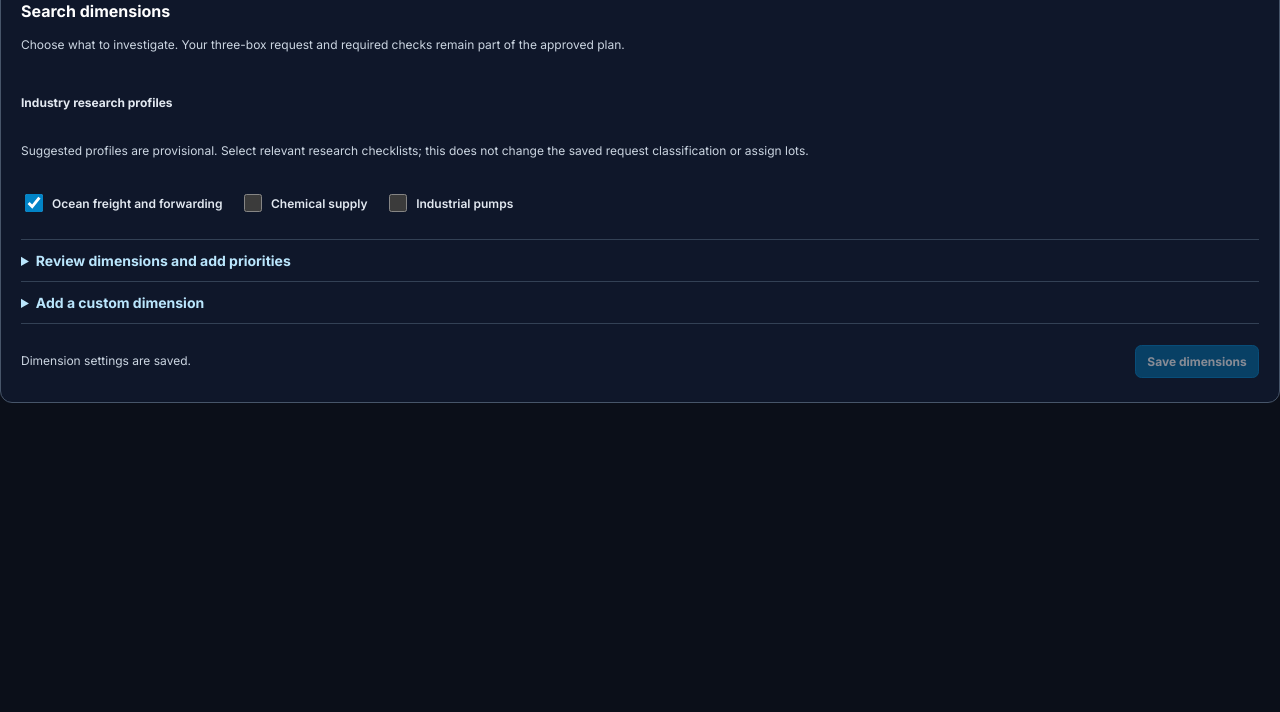
Test: MB-SEARCH-DIMENSIONS-002 L01 search dimensions › does not send an unsourced mandatory requirement
The image size is (1280, 712).
Click the heading "Review dimensions and add priorities" at (163, 261), box [36,252,291,269]
(page scrolled)
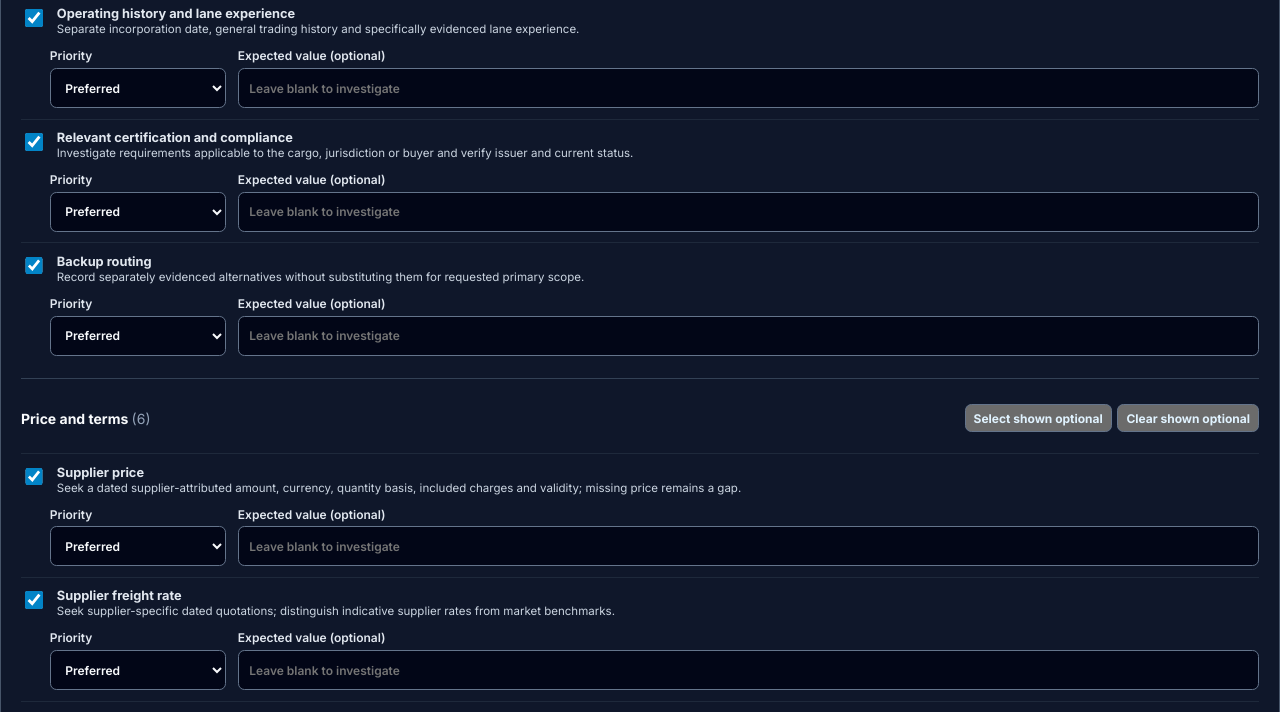
Select "Mandatory" in the dropdown labelled "Priority" below "Backup routing" at (138, 336), box [50,316,226,356]
(page scrolled)
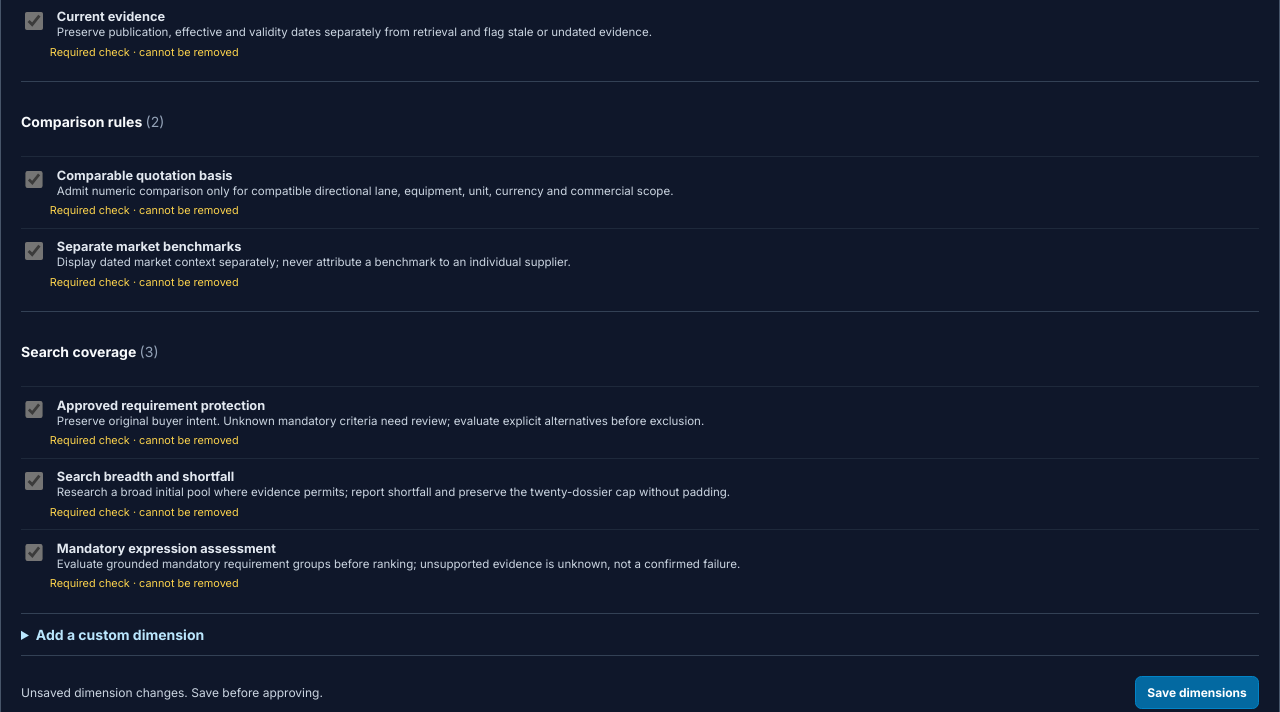
Click the button "Save dimensions" at (1197, 693), box [1135,676,1259,709]
(page scrolled)
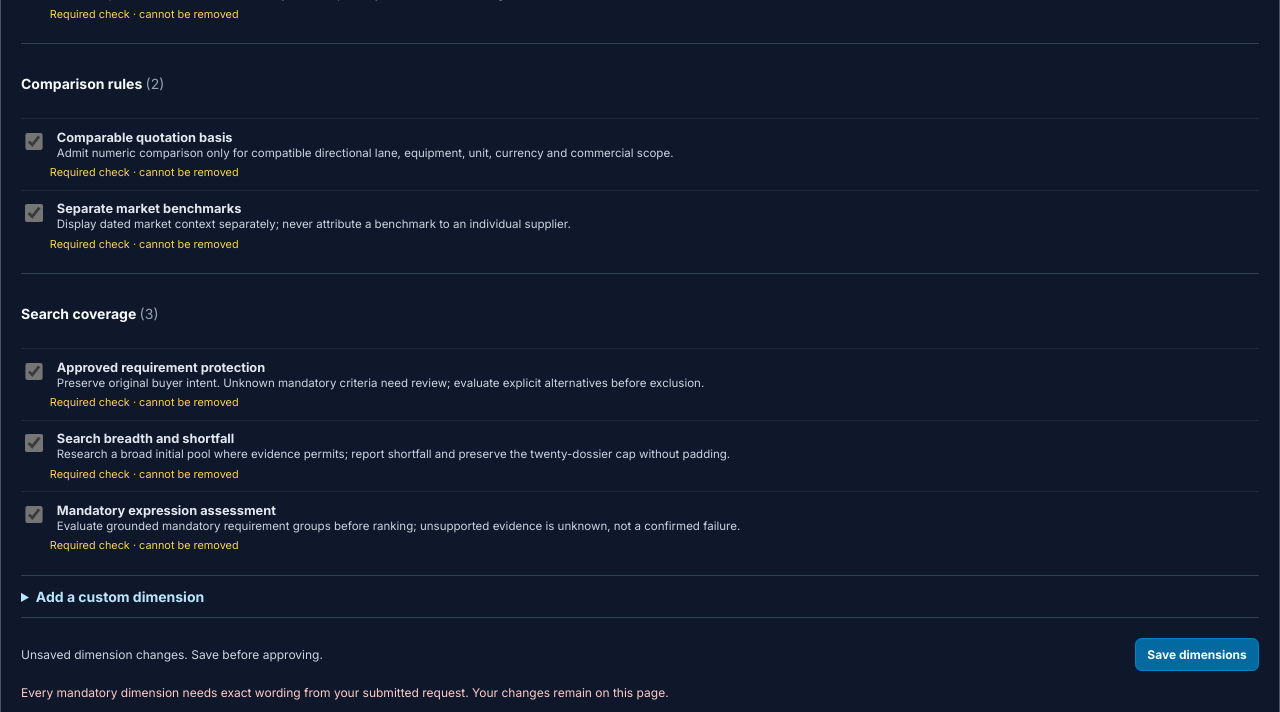
Result: the 2nd message shows "exact wording" at [21,685,469,700]
